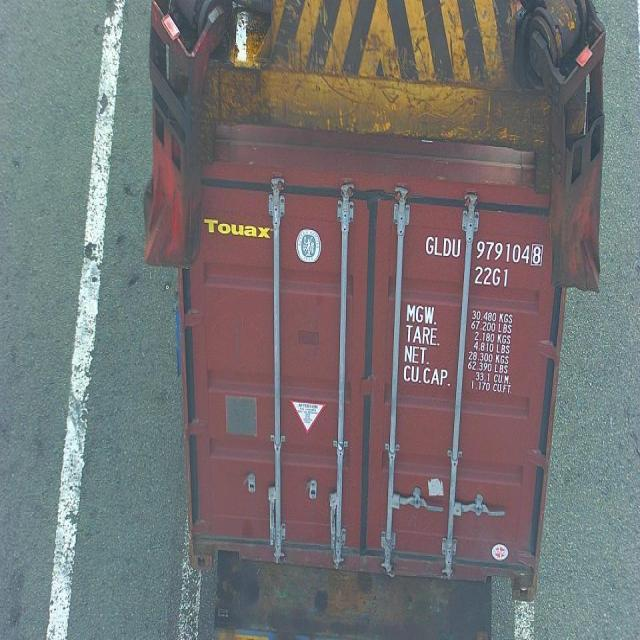ISO: (472, 267, 510, 286)
container_number: (424, 239, 546, 264)
